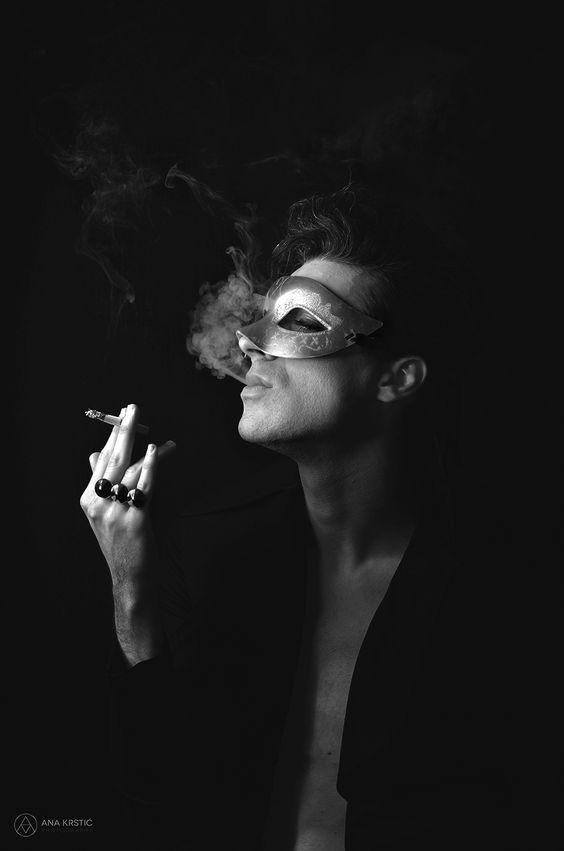cigarette: (86, 410, 151, 435)
